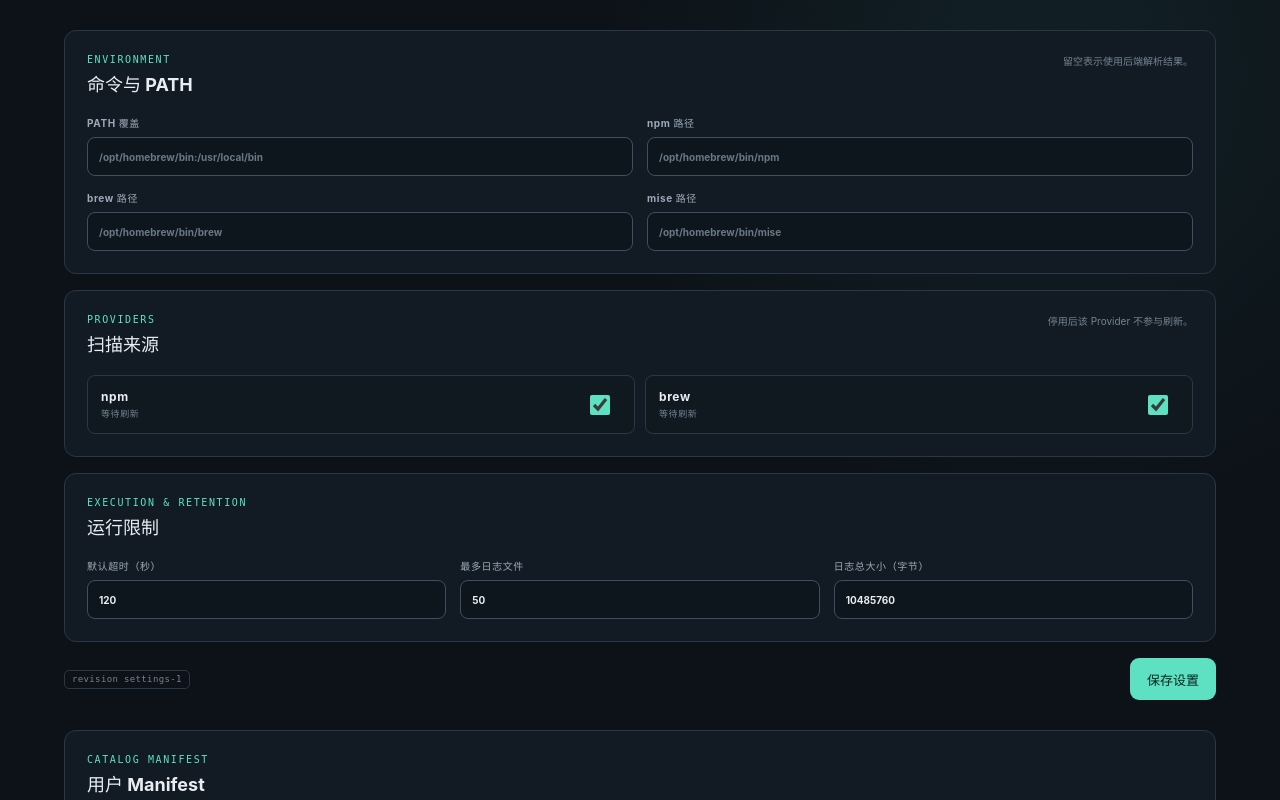
it: SettingsView revision conflicts › keeps the user's settings draft when the backend reports a conflict
Replace the text in the field labelled "默认超时（秒）" with "333" at point(267, 600), box [87,580,446,619]
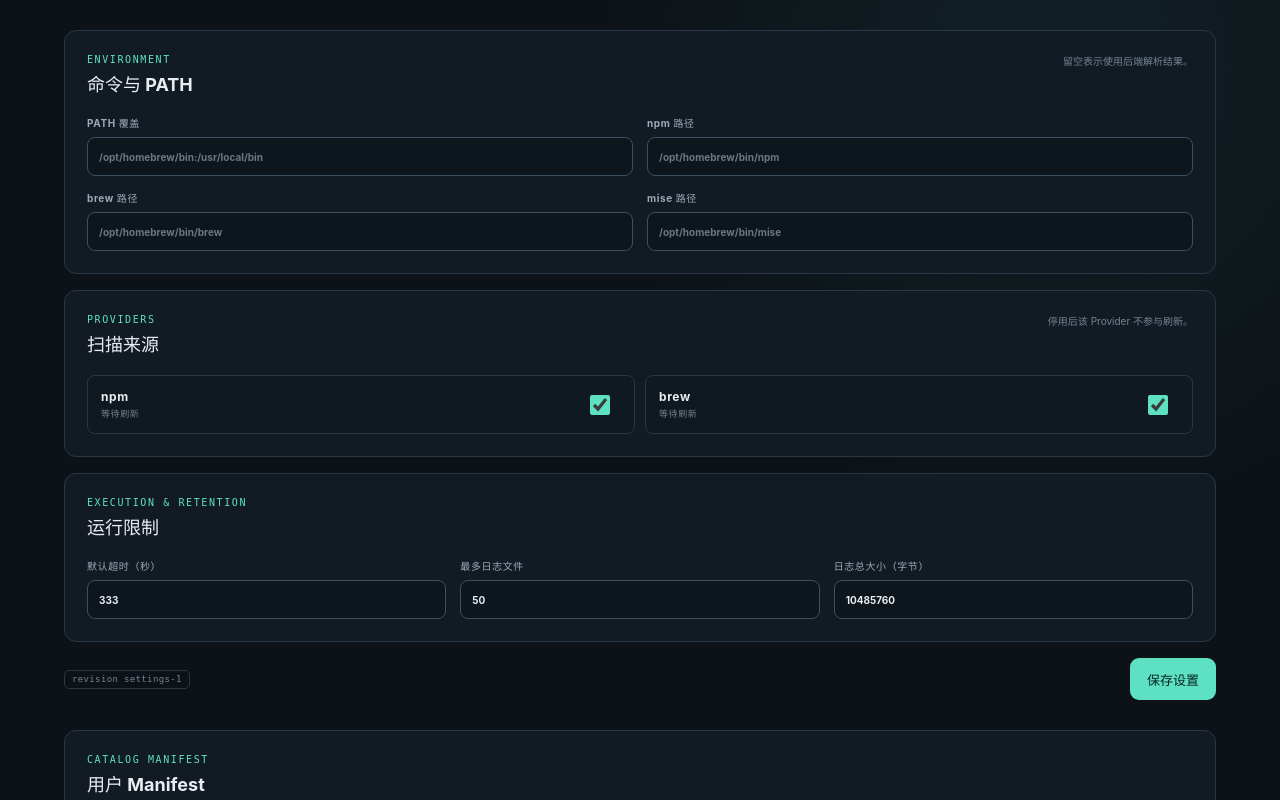
Click the button with test id "settings-save" at point(1173, 679), box [1130,658,1216,700]
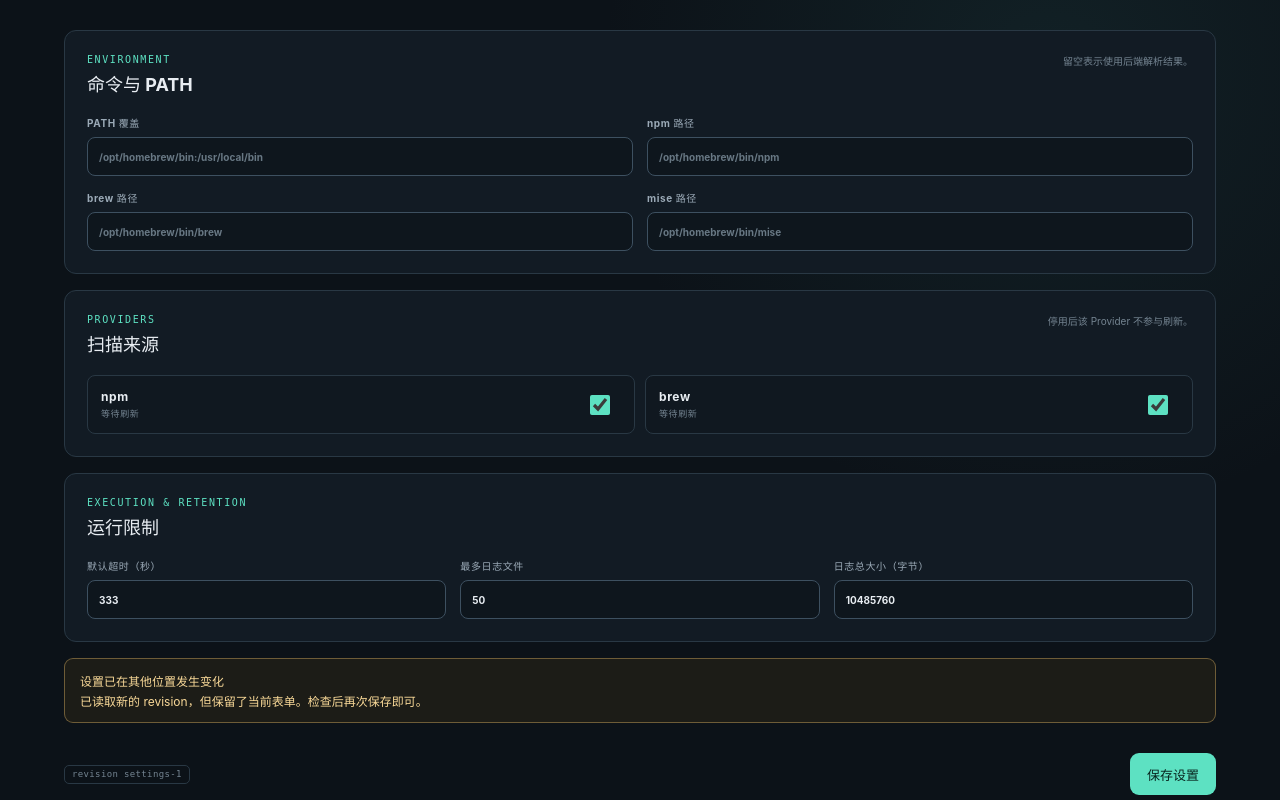
expect the text "设置已在其他位置发生变化" is shown: met, box [80,674,224,689]
